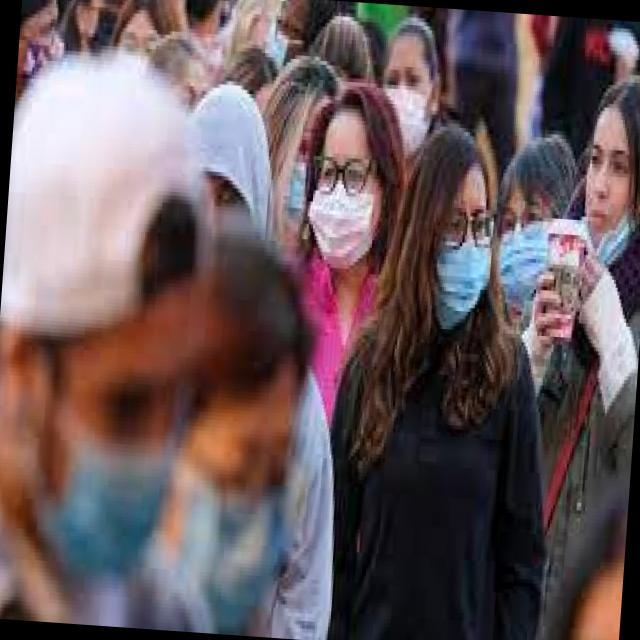Jacket: (312, 278, 581, 640), (505, 218, 640, 640)
